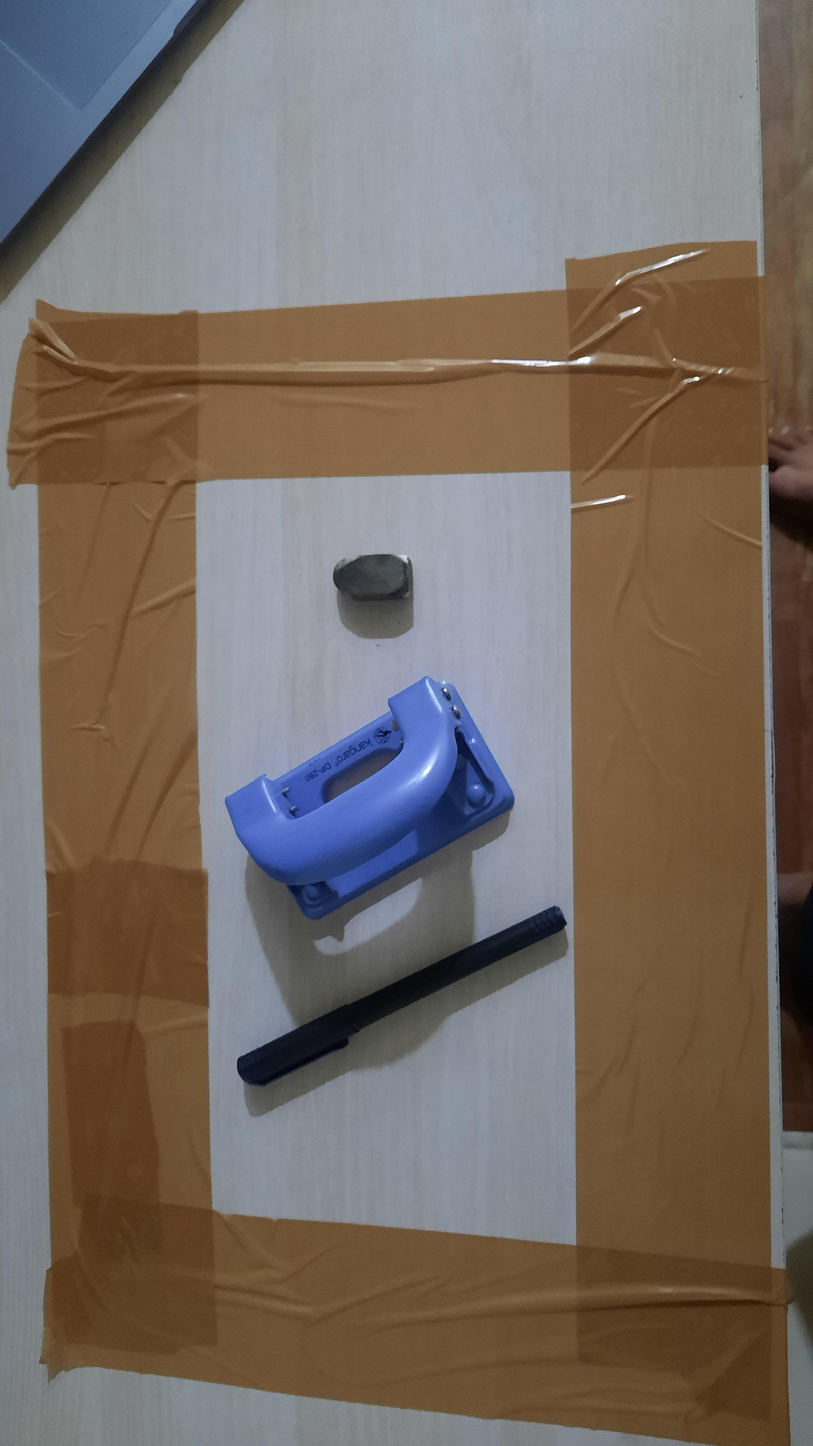Eraser: (332, 553, 414, 605)
Pen: (236, 905, 568, 1085)
Punch: (224, 675, 515, 919)
